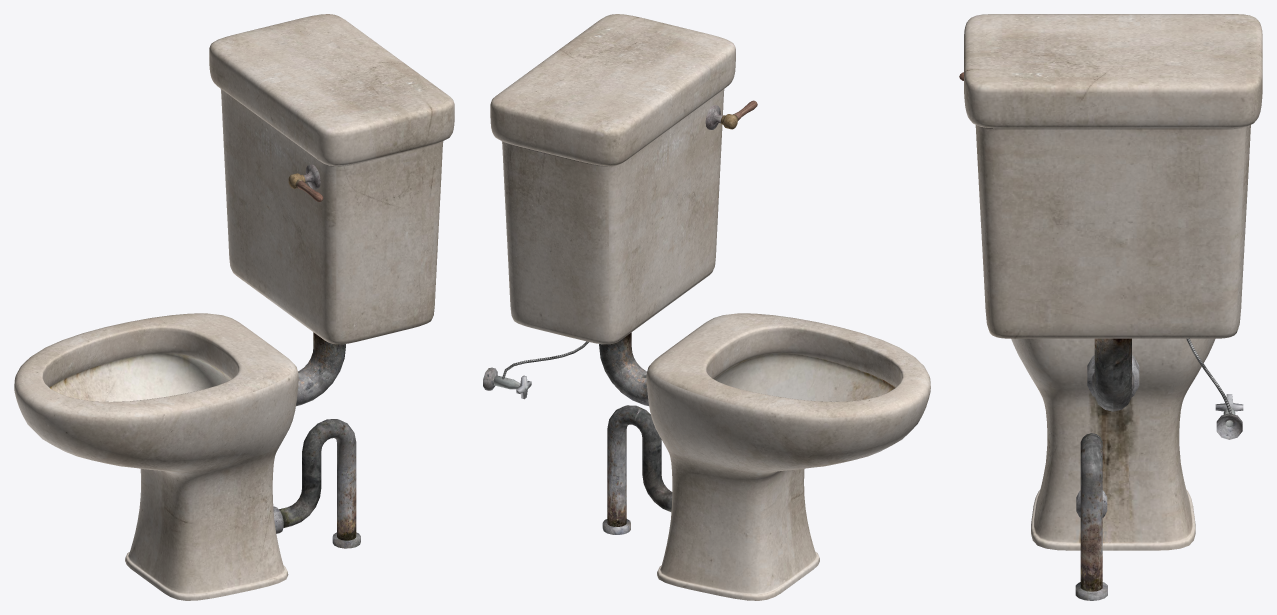
The model's file is Inodoro.obj.
3 renders of one model, left to right at view 1: azimuth 30°, elevation 25°; view 2: azimuth 150°, elevation 25°; view 3: azimuth 270°, elevation 25°, orthographic. The views are drawn at different scales.
Visible parts, largest first — view 1: Plane_156_Plane_197; view 2: Plane_156_Plane_197; view 3: Plane_156_Plane_197.
Part boxes in pixels (x1=…): Plane_156_Plane_197: x1=14, y1=14, x2=454, y2=600; Plane_156_Plane_197: x1=483, y1=14, x2=930, y2=600; Plane_156_Plane_197: x1=959, y1=14, x2=1262, y2=600.
Size of the model in its own units: 2.78 by 3.24 by 1.64.
